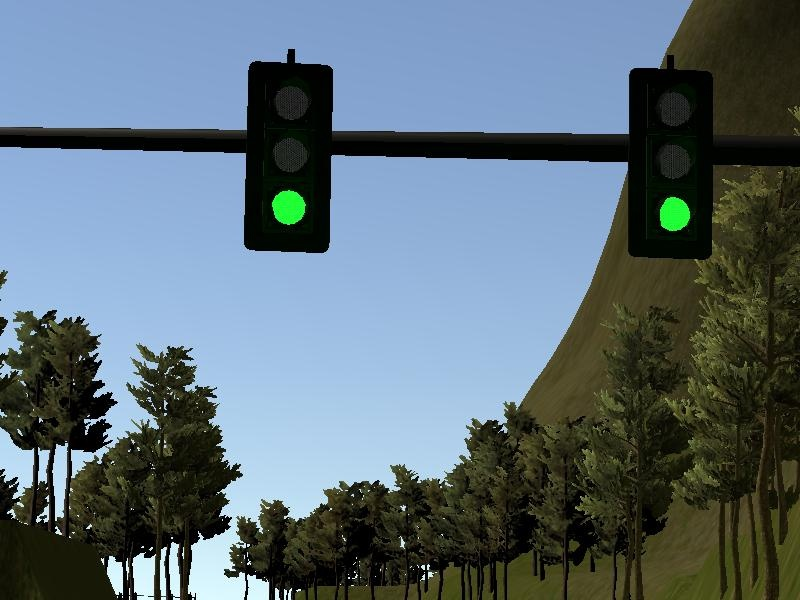green: (622, 62, 719, 264), (246, 55, 337, 261)
